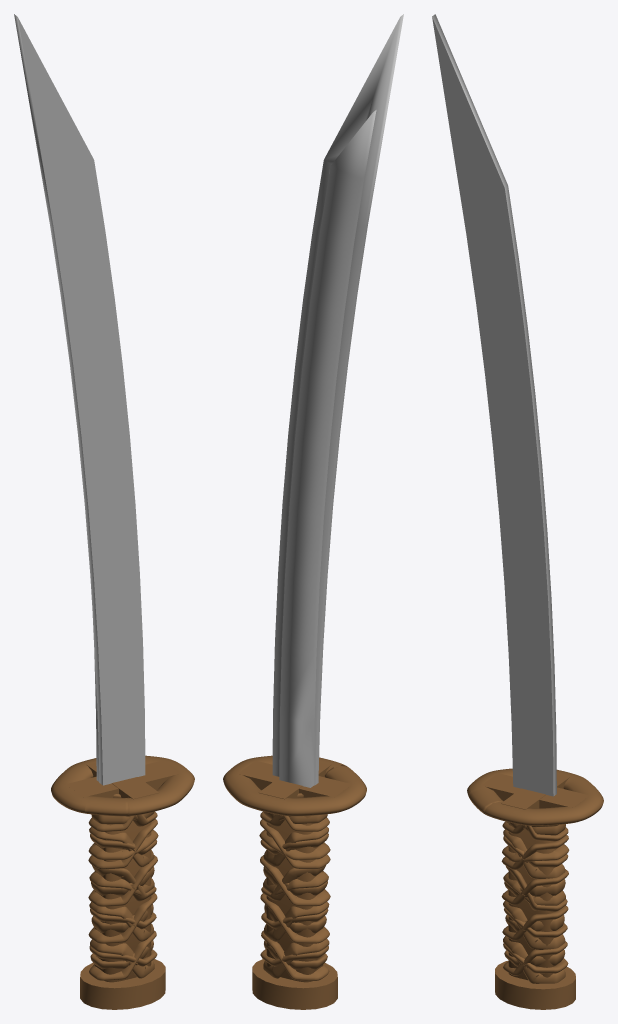
Rendered from Katanas_0.glb.
3 renders of one model, left to right at view 1: azimuth 30°, elevation 25°; view 2: azimuth 150°, elevation 25°; view 3: azimuth 330°, elevation 25°, orthographic. The views are drawn at different scales.
Visible parts, largest first — view 1: Spline 2D (×2), cloth (×5), Spline 3D, end, Cube (×2), body; view 2: Spline 2D (×2), cloth (×5), Spline 3D, end, body, Cube (×2); view 3: Spline 2D (×2), cloth (×5), Spline 3D, end, Cube (×2), body.
Part boxes in pixels (left/top/right/bottom): Spline 2D (×2): left=14, top=14, right=145, bottom=785; cloth (×5): left=88, top=794, right=158, bottom=980; Spline 3D: left=51, top=755, right=194, bottom=816; end: left=80, top=959, right=165, bottom=1009; Cube (×2): left=66, top=760, right=179, bottom=799; body: left=94, top=820, right=151, bottom=982; Spline 2D (×2): left=272, top=14, right=403, bottom=787; cloth (×5): left=259, top=793, right=330, bottom=980; Spline 3D: left=223, top=755, right=366, bottom=816; end: left=252, top=959, right=337, bottom=1009; body: left=266, top=815, right=323, bottom=982; Cube (×2): left=238, top=760, right=351, bottom=799; Spline 2D (×2): left=432, top=14, right=556, bottom=796; cloth (×5): left=501, top=821, right=569, bottom=983; Spline 3D: left=467, top=768, right=603, bottom=825; end: left=495, top=960, right=575, bottom=1009; Cube (×2): left=481, top=773, right=589, bottom=809; body: left=508, top=824, right=561, bottom=980.
Bounding box in the file's own units: 0.2053 × 1.15 × 0.1336.
